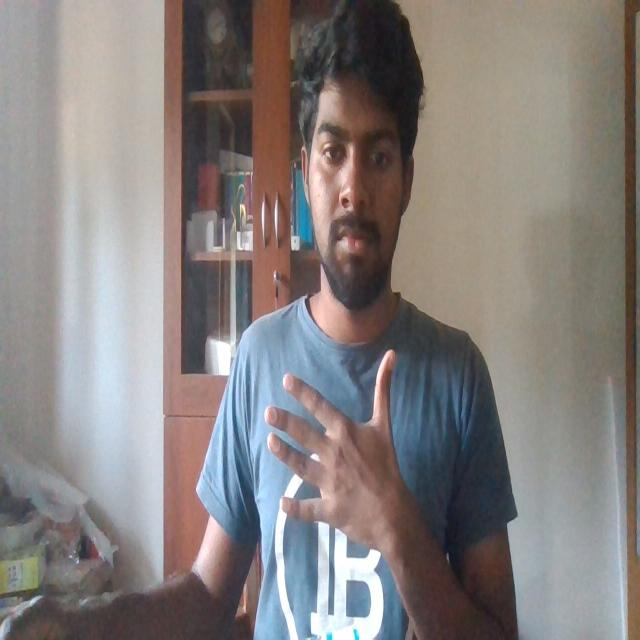Please: (264, 339, 404, 546)
